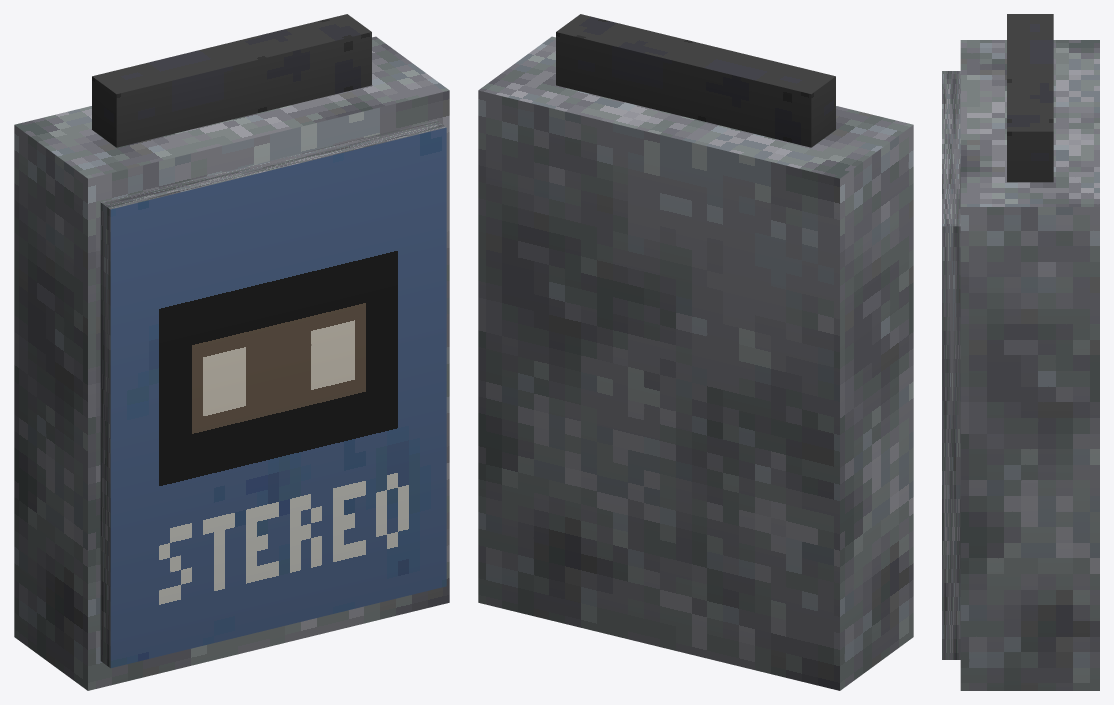
Rendered from cassette_player.glb.
3 views of the same model, side by side, from view 1: azimuth 30°, elevation 25°; view 2: azimuth 150°, elevation 25°; view 3: azimuth 270°, elevation 25° (orthographic). The views are drawn at different scales.
Visible parts, largest first — view 1: cassette_player_door, cassette_player; view 2: cassette_player; view 3: cassette_player, cassette_player_door.
Boxes of the visible parts, x1,y1,x2,y2 form: cassette_player_door: (100, 120, 446, 668); cassette_player: (14, 14, 449, 690); cassette_player: (478, 14, 913, 690); cassette_player: (960, 14, 1099, 690); cassette_player_door: (942, 71, 960, 659).
Size of the model in its own units: 0.085 by 0.127 by 0.034.
2 materials, 2 textured.
